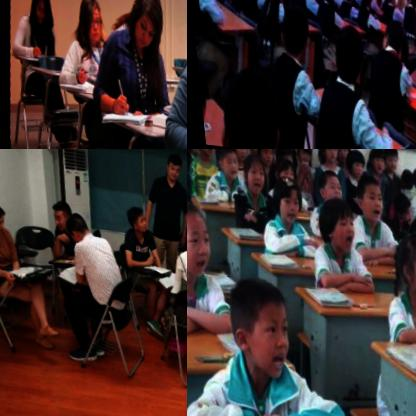head: (215, 273, 292, 379), (210, 61, 278, 149), (308, 192, 356, 256), (323, 16, 363, 86), (122, 0, 169, 59), (383, 224, 416, 295), (269, 0, 307, 59), (187, 195, 214, 274), (348, 171, 385, 222), (267, 172, 303, 223), (71, 0, 104, 47), (371, 12, 401, 58), (56, 208, 91, 244), (314, 166, 343, 207), (237, 150, 264, 191), (384, 187, 412, 226), (210, 149, 240, 180), (118, 202, 147, 233), (403, 80, 416, 149), (23, 0, 51, 30), (44, 199, 68, 231), (342, 149, 367, 178), (403, 210, 416, 264), (270, 156, 294, 185), (160, 150, 181, 179), (395, 161, 413, 188), (378, 149, 400, 171), (363, 149, 384, 170), (270, 149, 293, 166), (252, 149, 273, 166), (288, 149, 311, 164), (317, 149, 337, 162), (178, 218, 187, 246), (409, 161, 416, 196), (331, 149, 349, 160), (227, 149, 247, 156), (393, 0, 410, 8), (352, 0, 366, 8)
